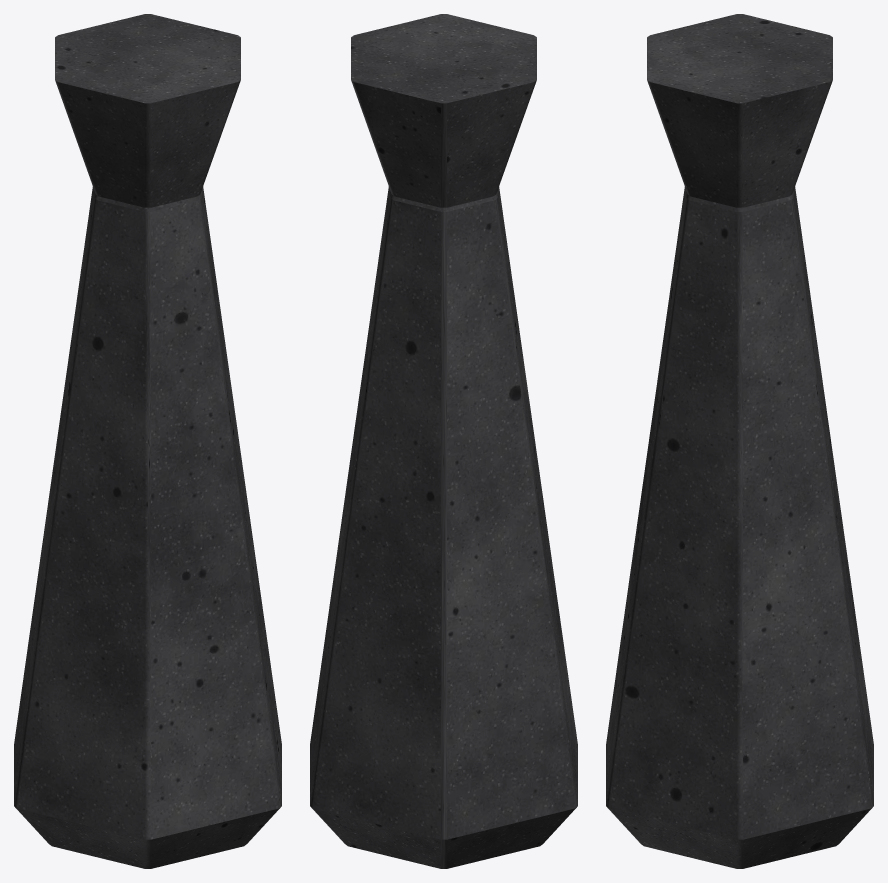
Rendered from queen-black.glb.
3 views of the same model, side by side, from view 1: azimuth 30°, elevation 25°; view 2: azimuth 150°, elevation 25°; view 3: azimuth 270°, elevation 25° (orthographic).
Visible parts, largest first — view 1: HEXALITH_black_queen; view 2: HEXALITH_black_queen; view 3: HEXALITH_black_queen.
Part boxes in pixels (x1=…): HEXALITH_black_queen: x1=14, y1=14, x2=281, y2=868; HEXALITH_black_queen: x1=310, y1=14, x2=577, y2=868; HEXALITH_black_queen: x1=606, y1=14, x2=873, y2=868.
Bounding box in the file's own units: 0.5341 × 1.47 × 0.4677.
Materials: 1 (1 with a texture image).
